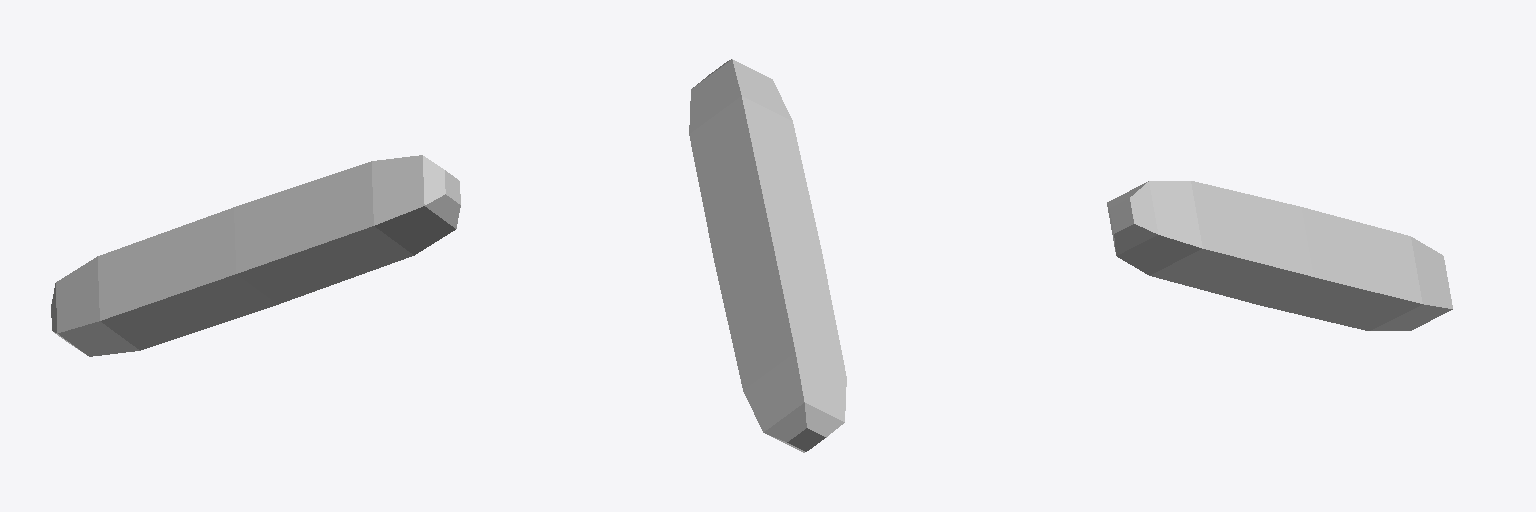
File: right_foot_cp_4_joint.obj
3 renders of one model, left to right at view 1: azimuth 30°, elevation 25°; view 2: azimuth 150°, elevation 25°; view 3: azimuth 270°, elevation 25°, orthographic.
Parts seen in each view (by area): view 1: ../rami/model/right_foot_cp_4_joint; view 2: ../rami/model/right_foot_cp_4_joint; view 3: ../rami/model/right_foot_cp_4_joint.
Part boxes in pixels (bbox=[...]): ../rami/model/right_foot_cp_4_joint: bbox=[51, 155, 460, 356]; ../rami/model/right_foot_cp_4_joint: bbox=[689, 59, 846, 452]; ../rami/model/right_foot_cp_4_joint: bbox=[1107, 181, 1452, 330].
Size of the model in its own units: 0.0003 by 0.0003 by 0.0004.